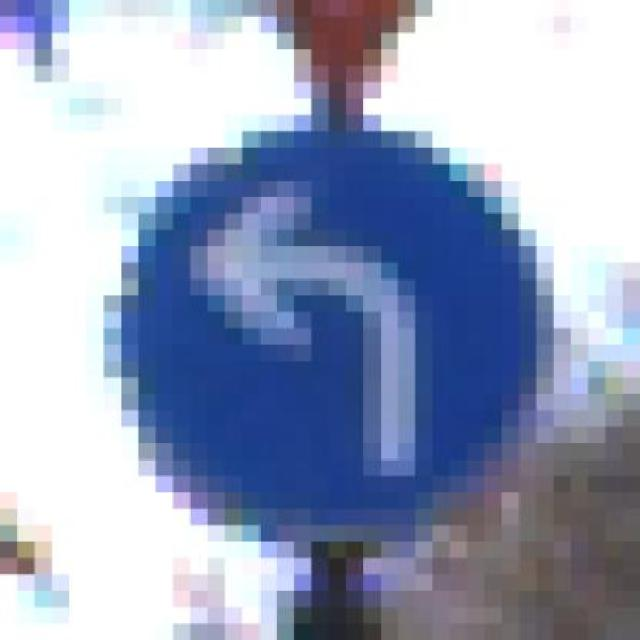Turn left ahead: (103, 99, 554, 542)
